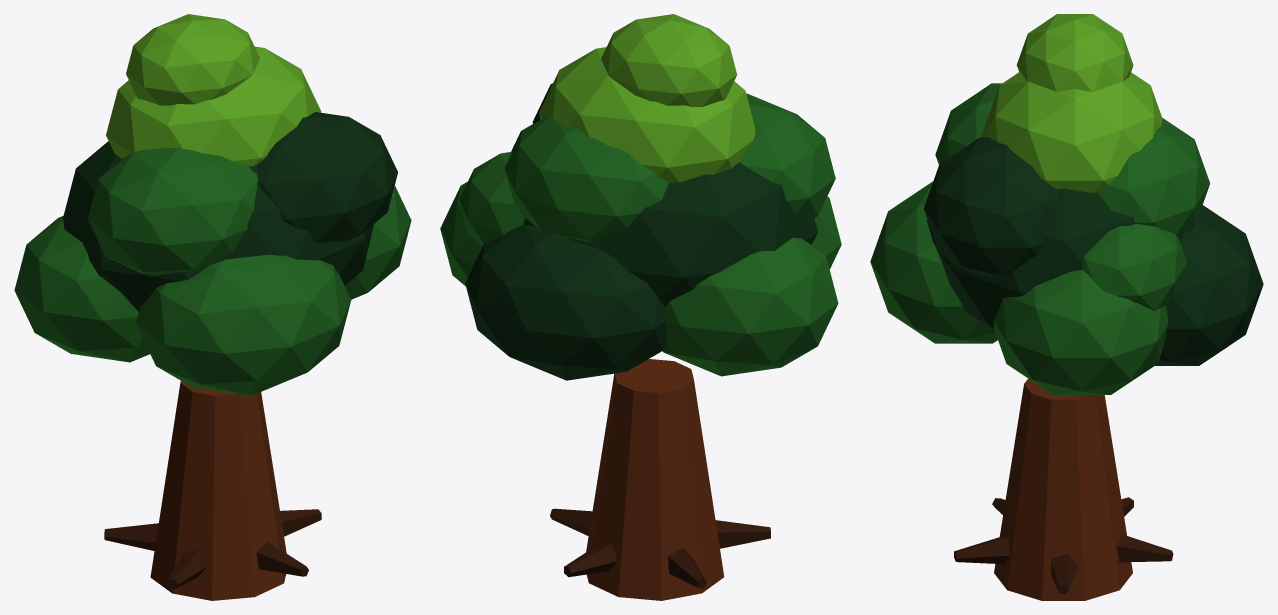
The model's file is tree_a.glb.
3 renders of one model, left to right at view 1: azimuth 30°, elevation 25°; view 2: azimuth 150°, elevation 25°; view 3: azimuth 270°, elevation 25°, orthographic. The views are drawn at different scales.
Parts seen in each view (by area): view 1: model; view 2: model; view 3: model.
Boxes of the visible parts, box(x1,y1,x2,y2) form: model: box(14, 14, 411, 600); model: box(440, 14, 841, 600); model: box(870, 14, 1263, 600).
Size of the model in its own units: 1.79 by 2.59 by 1.7.
1 material, 1 textured.
